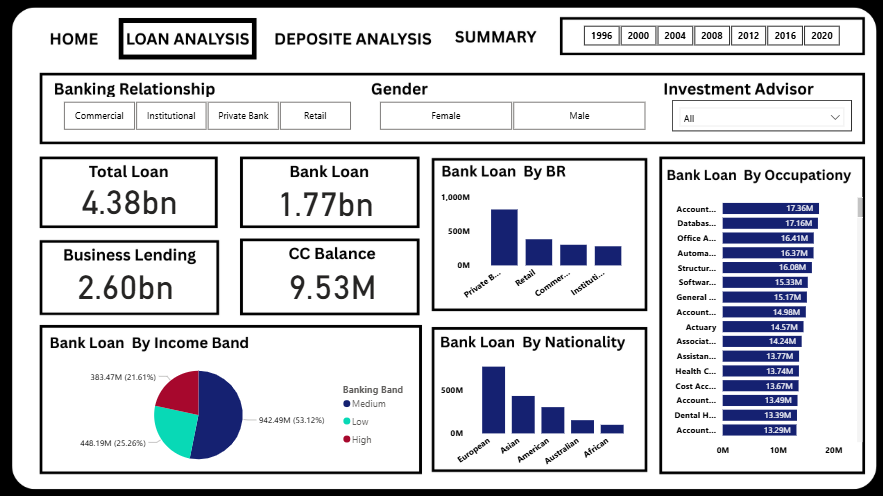

The page's visual inventory and layout, read from the dashboard file:
{"tool":"powerbi","page":{"name":"Loan Analysis","canvas":[1280,720],"ordinal":1},"visuals":[{"type":"slicer","fields":{"Values":["Banking_Clients.Joined Bank.Variation.Date Hierarchy.Year"]},"box":[818.1,33.6,418.3,42],"z":0},{"type":"card","fields":{"Values":["Sum(Banking_Clients.Bank Loans)"]},"box":[320.8,204.9,300.7,173],"z":1000},{"type":"card","fields":{"Values":["Sum(Banking_Clients.Business Lending)"]},"box":[33.6,324.2,300.7,173],"z":2000},{"type":"card","fields":{"Values":["Sum(Banking_Clients.Credit Card Balance)"]},"box":[330.9,324.2,300.7,173],"z":3000},{"type":"columnChart","fields":{"Y":["Sum(Banking_Clients.Bank Loans)"],"Category":["Banking Relationship.Banking Relationship"]},"box":[631.6,272.1,292.3,173],"z":4000},{"type":"columnChart","fields":{"Y":["Sum(Banking_Clients.Bank Loans)"],"Category":["Banking_Clients.Nationality"]},"box":[631.6,514,292.3,173],"z":5000},{"type":"barChart","fields":{"Y":["Sum(Banking_Clients.Bank Loans)"],"Category":["Banking_Clients.Occupation"]},"box":[957.1,274.2,292.7,395.3],"z":6000},{"type":"pieChart","fields":{"Y":["Sum(Banking_Clients.Bank Loans)"],"Category":["Banking_Clients.Banking Band"]},"box":[75.7,514.7,528.1,173.2],"z":7000},{"type":"slicer","fields":{"Values":["Banking Relationship.Banking Relationship"]},"box":[69,143,462.5,53.8],"z":8000},{"type":"slicer","fields":{"Values":["Gender.Gender"]},"box":[524.8,143,432.3,53.8],"z":9000},{"type":"slicer","fields":{"Values":["Investment Advisor.Investment Advisor"]},"box":[970.5,146.3,259,45.4],"z":10000},{"type":"actionButton","box":[45.4,23.5,119.4,63.9],"z":11000},{"type":"actionButton","box":[380.1,21.9,252.3,65.6],"z":12000},{"type":"actionButton","box":[652.6,21.9,136.2,65.6],"z":13000},{"type":"card","fields":{"Values":["Banking_Clients.Total_Loan"]},"box":[38.7,201.8,301.1,173.2],"z":14000}]}

Visuals, with their boxes in screenshot pixels (x1, y1, x2, y2), scaled from the page's 1280x720 canvas onto the 883x496 screenshot:
slicer - Banking_Clients.Joined Bank.Variation.Date Hierarchy.Year: (left=564, top=23, right=853, bottom=52)
card - Sum(Banking_Clients.Bank Loans): (left=221, top=141, right=429, bottom=260)
card - Sum(Banking_Clients.Business Lending): (left=23, top=223, right=231, bottom=343)
card - Sum(Banking_Clients.Credit Card Balance): (left=228, top=223, right=436, bottom=343)
columnChart - Sum(Banking_Clients.Bank Loans) x Banking Relationship.Banking Relationship: (left=436, top=187, right=637, bottom=307)
columnChart - Sum(Banking_Clients.Bank Loans) x Banking_Clients.Nationality: (left=436, top=354, right=637, bottom=473)
barChart - Sum(Banking_Clients.Bank Loans) x Banking_Clients.Occupation: (left=660, top=189, right=862, bottom=461)
pieChart - Sum(Banking_Clients.Bank Loans) x Banking_Clients.Banking Band: (left=52, top=355, right=417, bottom=474)
slicer - Banking Relationship.Banking Relationship: (left=48, top=99, right=367, bottom=136)
slicer - Gender.Gender: (left=362, top=99, right=660, bottom=136)
slicer - Investment Advisor.Investment Advisor: (left=669, top=101, right=848, bottom=132)
actionButton: (left=31, top=16, right=114, bottom=60)
actionButton: (left=262, top=15, right=436, bottom=60)
actionButton: (left=450, top=15, right=544, bottom=60)
card - Banking_Clients.Total_Loan: (left=27, top=139, right=234, bottom=258)
